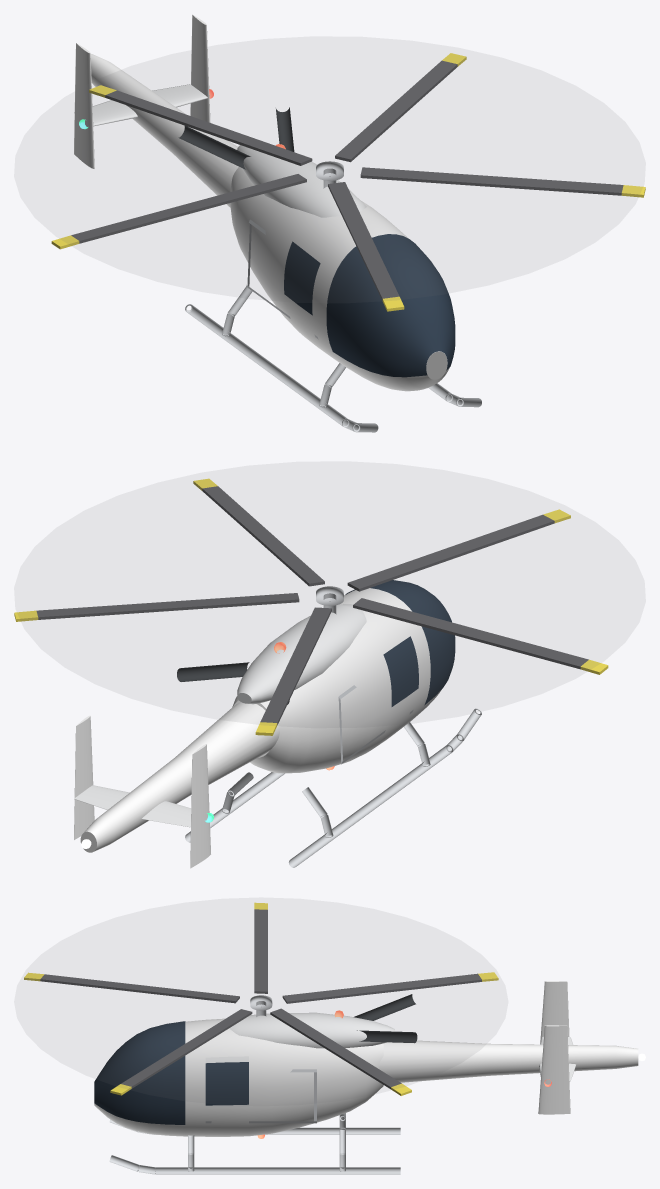
3 renders of one model, top to bottom at view 1: azimuth 30°, elevation 25°; view 2: azimuth 150°, elevation 25°; view 3: azimuth 270°, elevation 25°, orthographic. The views are drawn at different scales.
Visible parts, largest first — view 1: airframe, rotor; view 2: airframe, rotor; view 3: airframe, rotor.
Part boxes in pixels (x1,y1,x2,y2): airframe: [74, 14, 481, 432]; rotor: [51, 53, 645, 311]; airframe: [74, 580, 481, 868]; rotor: [14, 478, 608, 735]; airframe: [94, 981, 645, 1174]; rotor: [24, 902, 498, 1095].
Size of the model in its own units: 8.4 by 2.95 by 10.73.
